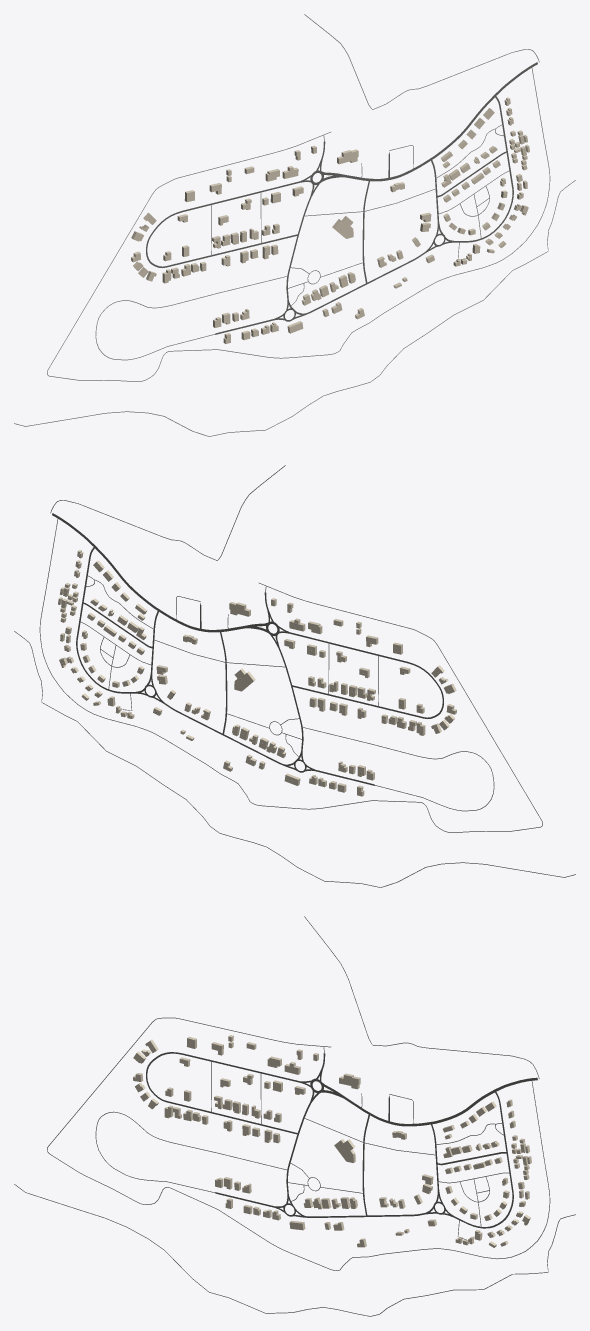
Rendered from historic-palestine-04_20_3463_3146.glb.
The picture shows the model from 3 angles, top to bottom: view 1: azimuth 30°, elevation 25°; view 2: azimuth 150°, elevation 25°; view 3: azimuth 330°, elevation 25°; orthographic projection.
Parts seen in each view (by area): view 1: Road .048, Road .008, Road .012, Road .009; view 2: Road .048, Road .008, Road .012, Road .009; view 3: Road .048, Road .008, Road .012, Road .009.
Part boxes in pixels (x1,y1,x2,y2): Road .048: [47, 68, 550, 381]; Road .008: [14, 180, 575, 436]; Road .012: [146, 181, 300, 267]; Road .009: [343, 62, 537, 181]; Road .048: [39, 518, 542, 832]; Road .008: [14, 631, 575, 887]; Road .012: [289, 632, 443, 718]; Road .009: [52, 513, 246, 632]; Road .048: [47, 1017, 550, 1270]; Road .008: [14, 1184, 575, 1316]; Road .012: [146, 1052, 300, 1134]; Road .009: [343, 1077, 537, 1126].
Bounding box in the file's own units: 1197 × 828 × 8.7.
